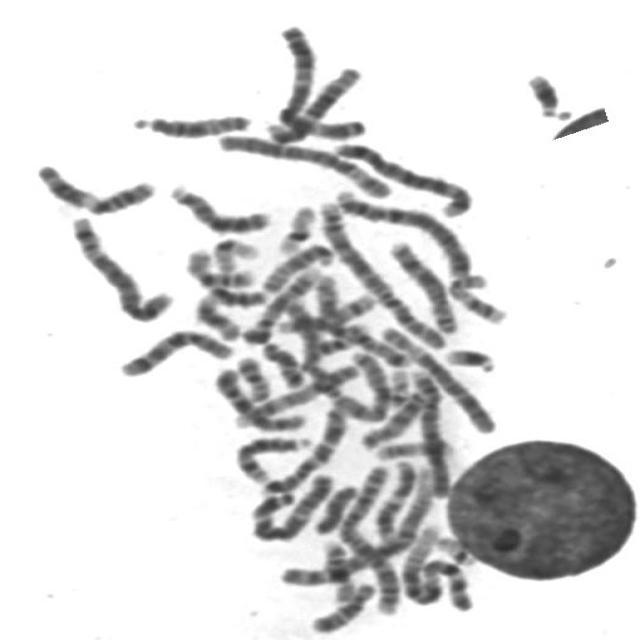A1: (268, 453, 436, 590), (392, 516, 479, 612)
A2: (313, 190, 458, 351), (334, 461, 405, 622)
A3: (269, 17, 370, 142), (243, 466, 339, 544)
B4: (328, 182, 480, 282), (405, 364, 457, 501)
B5: (62, 208, 178, 324), (325, 134, 477, 218)
C10: (207, 361, 313, 433), (110, 322, 238, 379)
C11: (28, 156, 160, 217), (187, 281, 272, 343)
C12: (260, 58, 366, 144), (370, 453, 422, 541)
C6: (372, 318, 500, 435), (212, 126, 397, 199)
C7: (255, 396, 355, 496), (339, 346, 400, 426)
C8: (309, 267, 414, 368), (382, 232, 463, 335)
C9: (226, 357, 363, 429), (235, 262, 326, 348)
D13: (162, 177, 277, 235), (352, 379, 437, 453)
D14: (272, 286, 383, 335), (227, 429, 316, 484)
D15: (253, 244, 344, 299), (124, 104, 255, 140)
E16: (178, 241, 259, 290), (315, 533, 359, 604)
E17: (442, 266, 513, 326), (369, 432, 458, 462)
E18: (304, 575, 380, 634), (255, 335, 310, 390)
F19: (271, 198, 321, 255), (206, 230, 263, 273)
F20: (305, 317, 375, 358), (228, 350, 275, 405)
G21: (518, 65, 572, 121), (436, 339, 501, 374)
G22: (430, 529, 480, 567), (380, 361, 414, 407)
Y: (306, 478, 363, 535)
